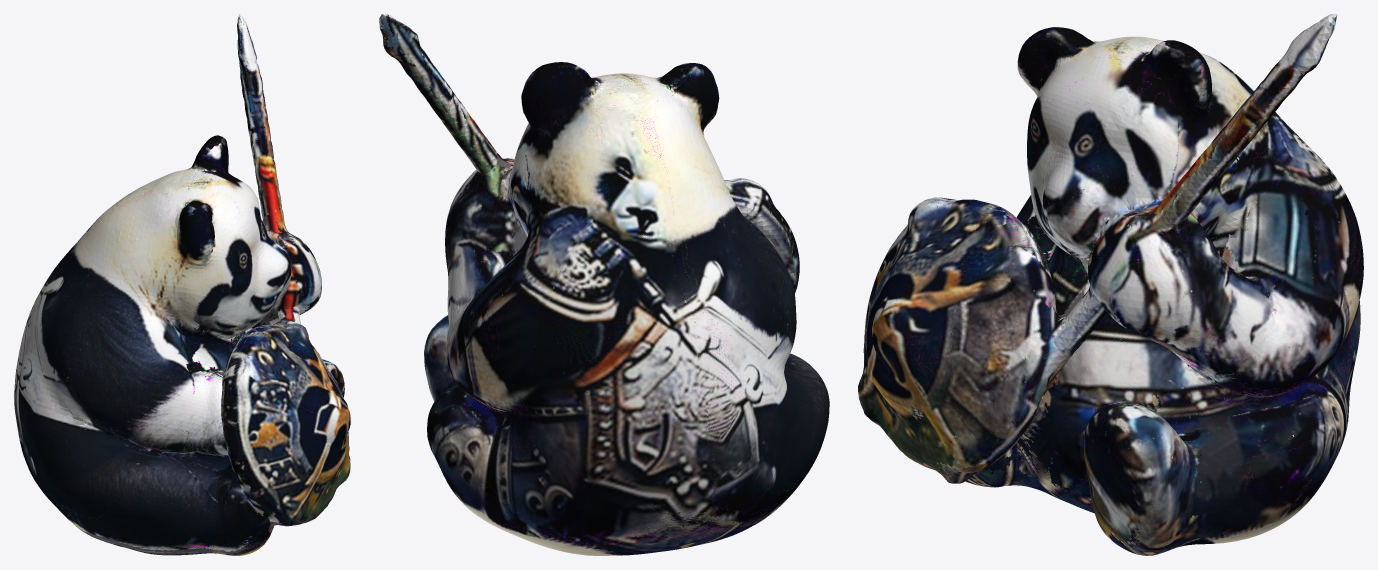
The model's file is panda_spear_shield_m0.glb.
3 views of the same model, side by side, from view 1: azimuth 30°, elevation 25°; view 2: azimuth 150°, elevation 25°; view 3: azimuth 270°, elevation 25° (orthographic). The views are drawn at different scales.
Parts seen in each view (by area): view 1: mesh; view 2: mesh; view 3: mesh.
Boxes of the visible parts, left/top/right/bottom form: mesh: left=14, top=14, right=350, bottom=555; mesh: left=379, top=14, right=829, bottom=555; mesh: left=858, top=14, right=1363, bottom=555.
Bounding box in the file's own units: 0.5651 × 0.7675 × 0.6141.
Materials: 1 (1 with a texture image).
